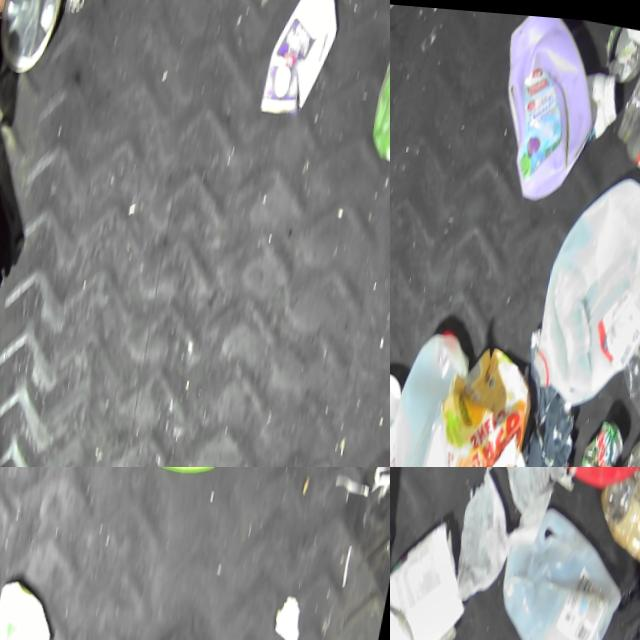can: (580, 406, 635, 467), (599, 17, 640, 81)
milk_jug: (529, 156, 640, 415), (489, 487, 640, 640), (390, 320, 488, 467)
non_white_jug: (481, 9, 610, 204)
